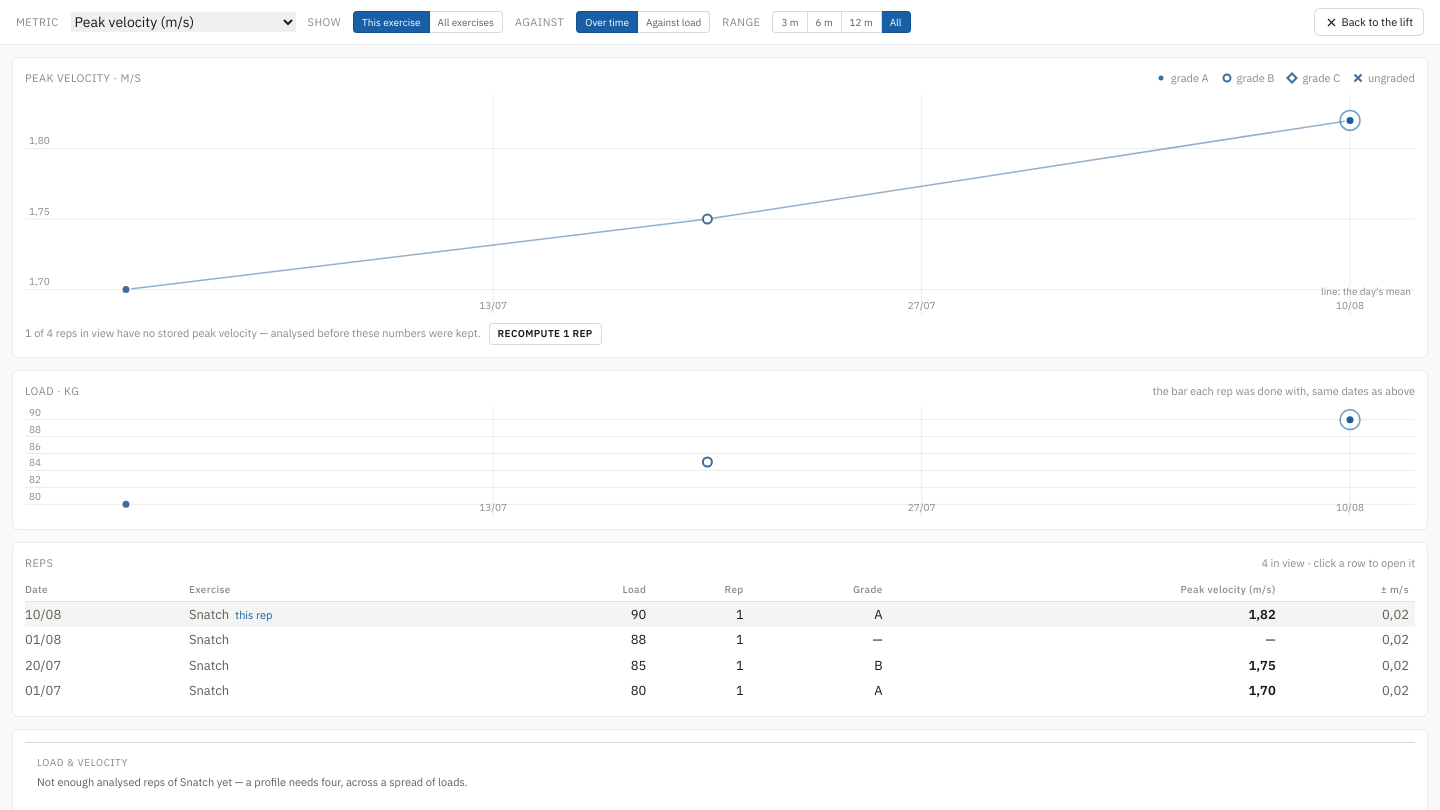
Test: TrendsView › switches metric from the picker
Expected: the text "PEAK VELOCITY · M/S" is shown, [25, 70, 141, 86]
Select "Loss 1st → 2nd (m/s)" in the dropdown titled "headline number". click: [183, 22]
box: [71, 12, 296, 32]
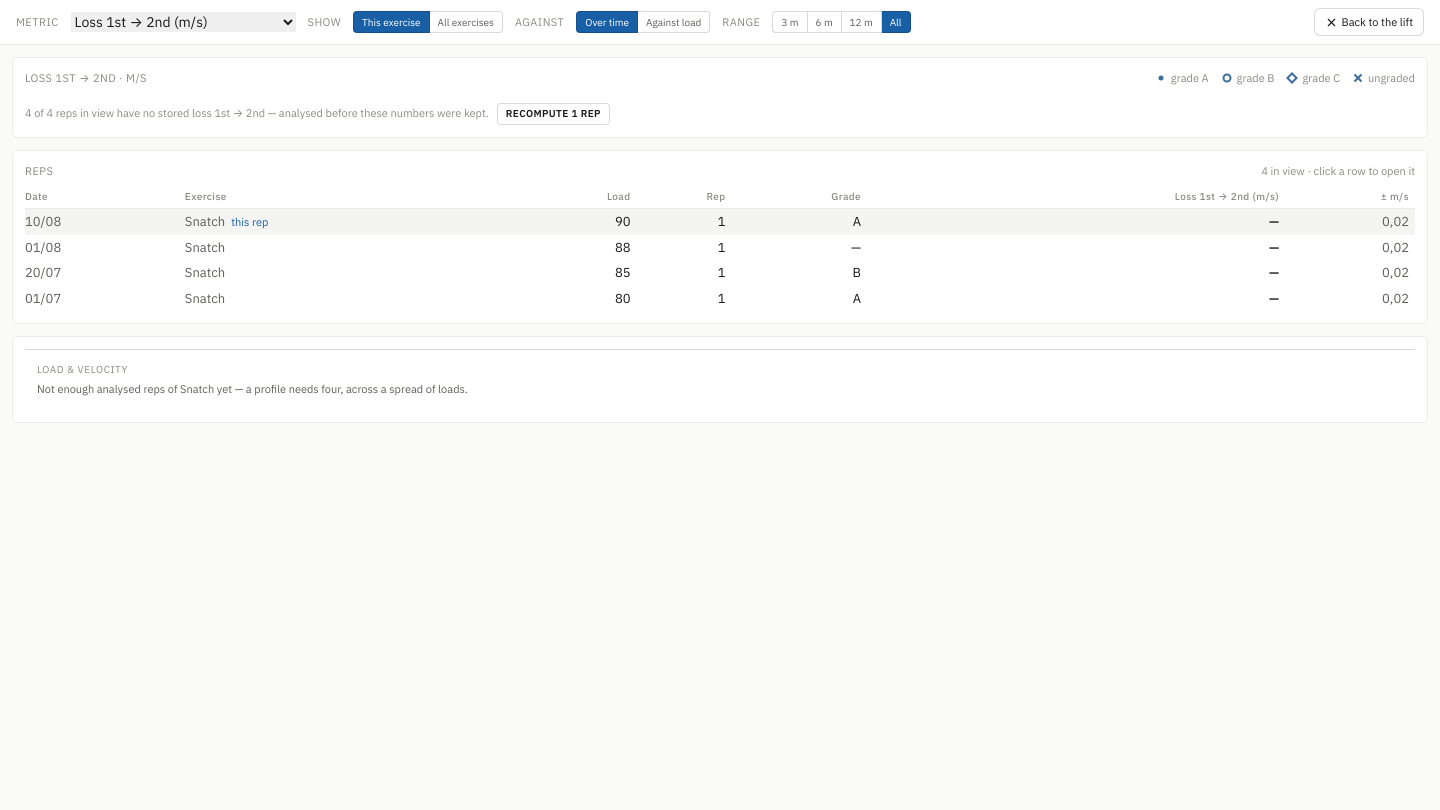
Expected: the text "LOSS 1ST → 2ND · M/S" is shown, [25, 70, 147, 86]
Expected: the text "4 of 4 reps in view have no stored loss 1st → 2nd" is shown, [25, 106, 265, 120]
